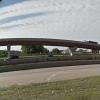Bridge: (2, 30, 95, 63)
